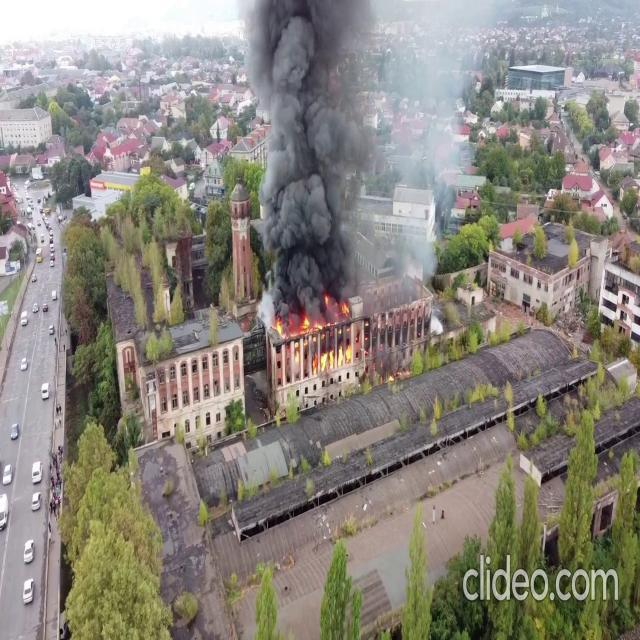Smoke: (244, 0, 435, 321)
